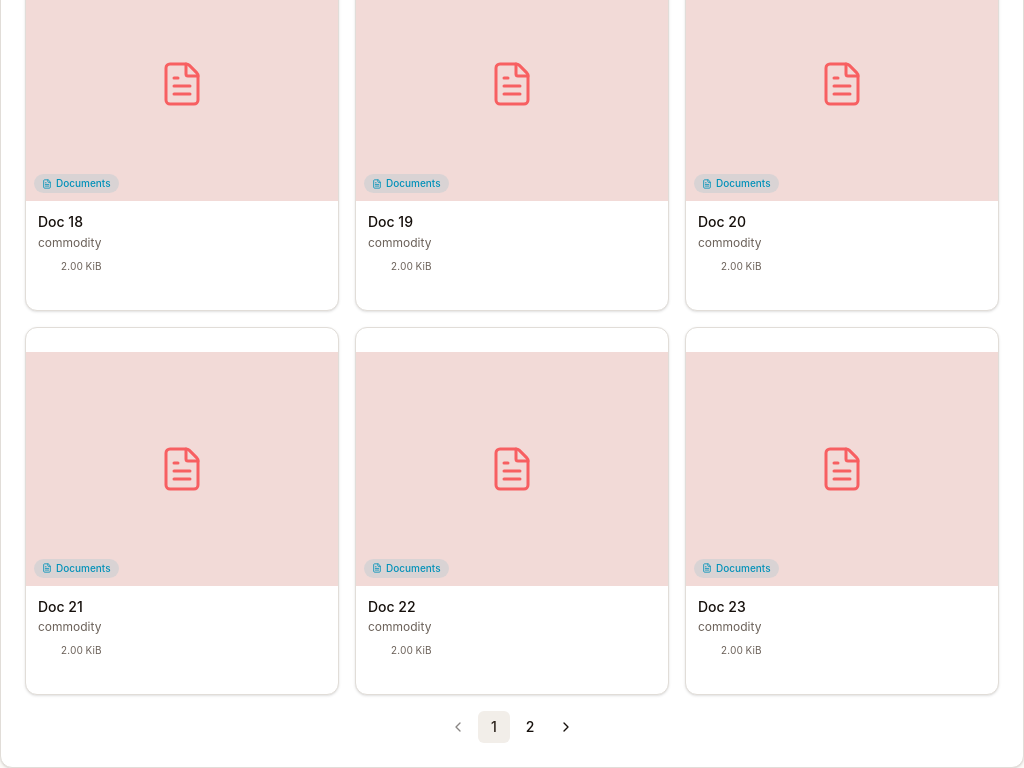
Scenario: <EntityFilesPanel /> › pages past the first 24 files
(page scrolled)
Click the button with test id "entity-files-panel-pagination-page-2" at (530, 727), box [514,711,546,743]
(page scrolled)
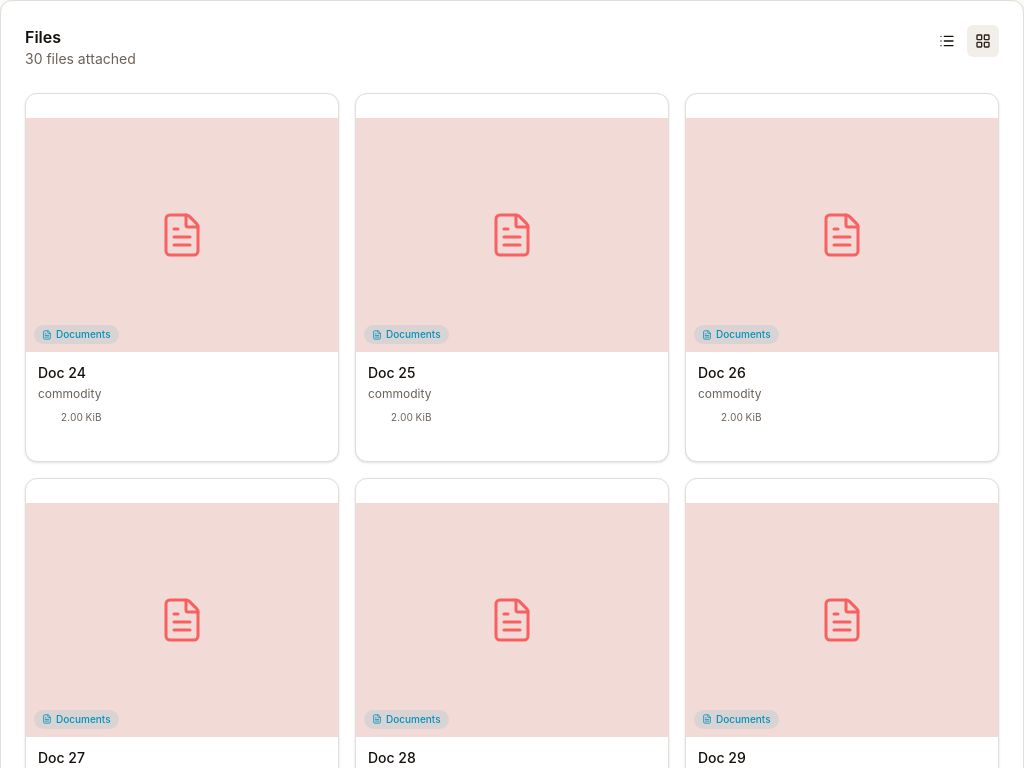
Expected: the element with test id "file-card-f-24" is shown, [25,93,339,462]
